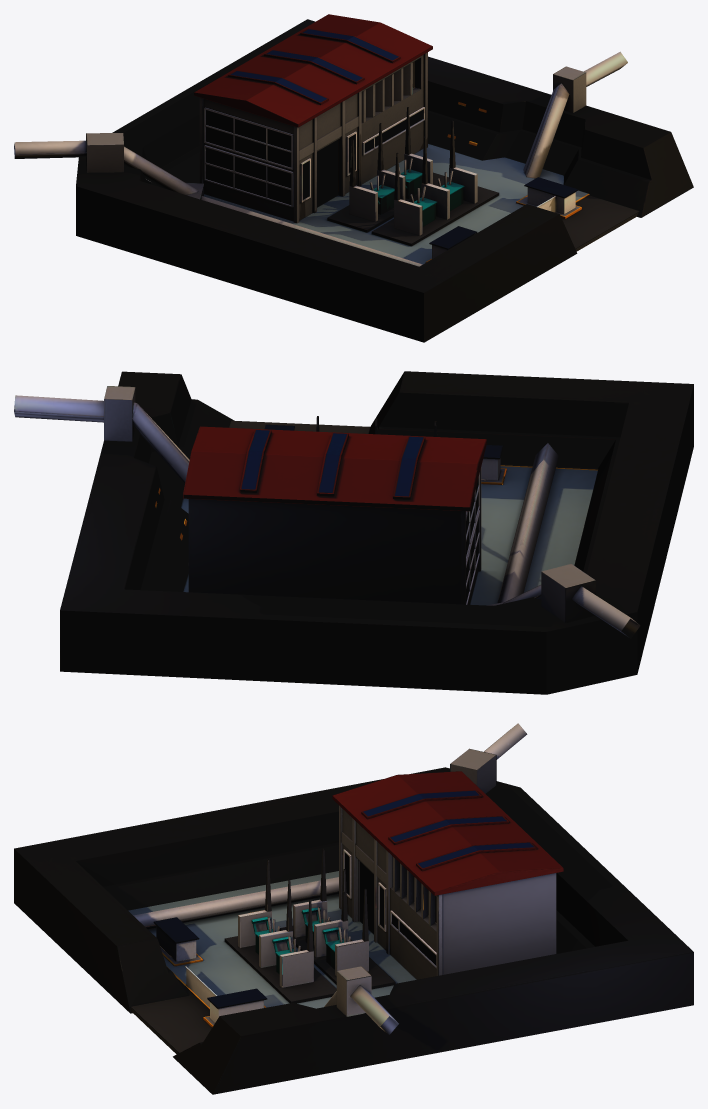
The model's file is Mini_3D_02.glb.
3 views of the same model, one above another, from view 1: azimuth 30°, elevation 25°; view 2: azimuth 150°, elevation 25°; view 3: azimuth 270°, elevation 25° (orthographic). The views are drawn at different scales.
Visible parts, largest first — view 1: Mini; view 2: Mini; view 3: Mini.
Part boxes in pixels (x1,y1,x2,y2): Mini: (14, 14, 693, 342); Mini: (14, 371, 693, 694); Mini: (14, 723, 693, 1094).
Size of the model in its own units: 5.59 by 1.22 by 5.41.
1 material, 1 textured.
